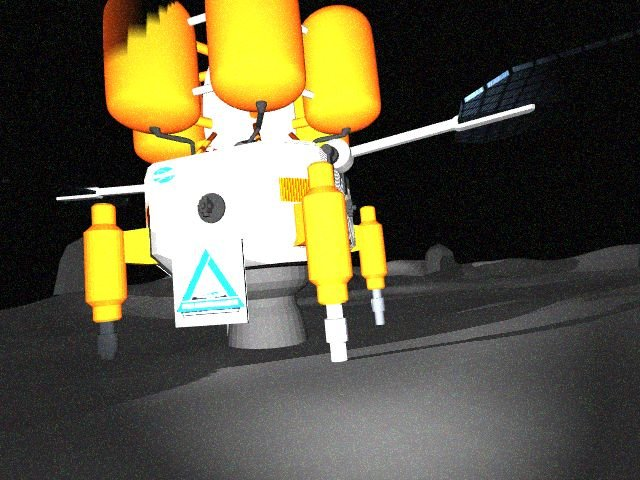basemarker: (176, 248, 245, 318)
